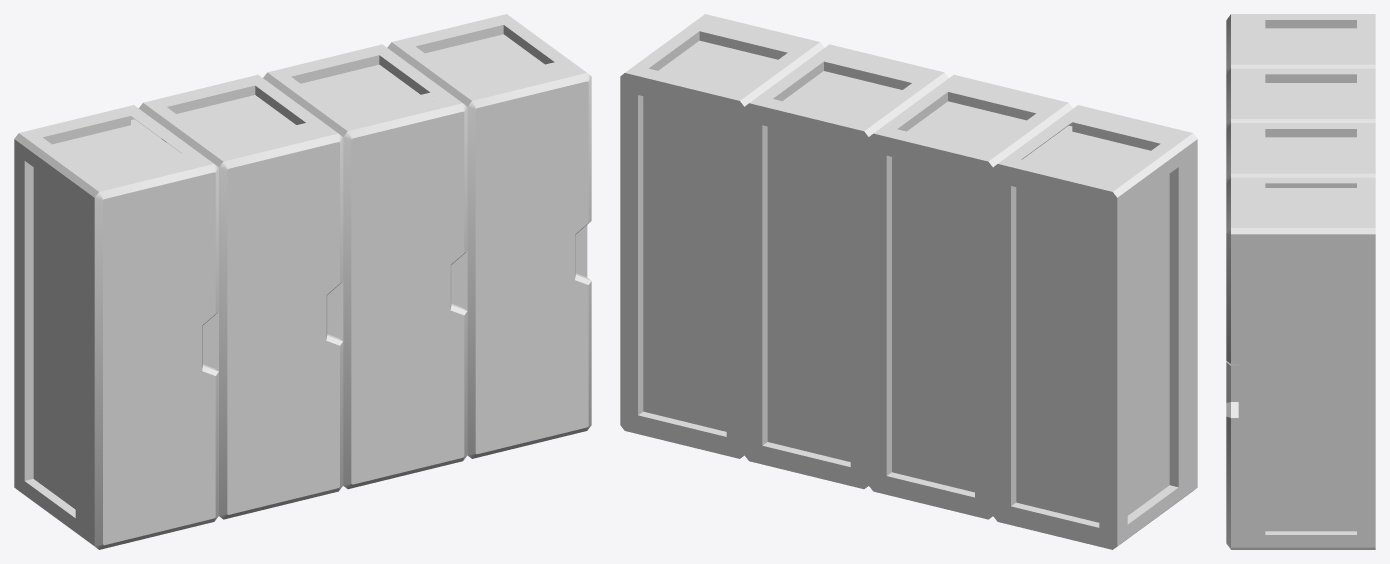
File: Cont_LockerGroup_Static.fbx
3 views of the same model, side by side, from view 1: azimuth 30°, elevation 25°; view 2: azimuth 150°, elevation 25°; view 3: azimuth 270°, elevation 25° (orthographic). The views are drawn at different scales.
Visible parts, largest first — view 1: Cont_LockerGroup_Static; view 2: Cont_LockerGroup_Static; view 3: Cont_LockerGroup_Static.
Part boxes in pixels (x1,y1,x2,y2): Cont_LockerGroup_Static: (14,14,591,549); Cont_LockerGroup_Static: (620,14,1197,549); Cont_LockerGroup_Static: (1226,14,1375,549).
Bounding box in the file's own units: 2.91 × 2 × 0.8404.
